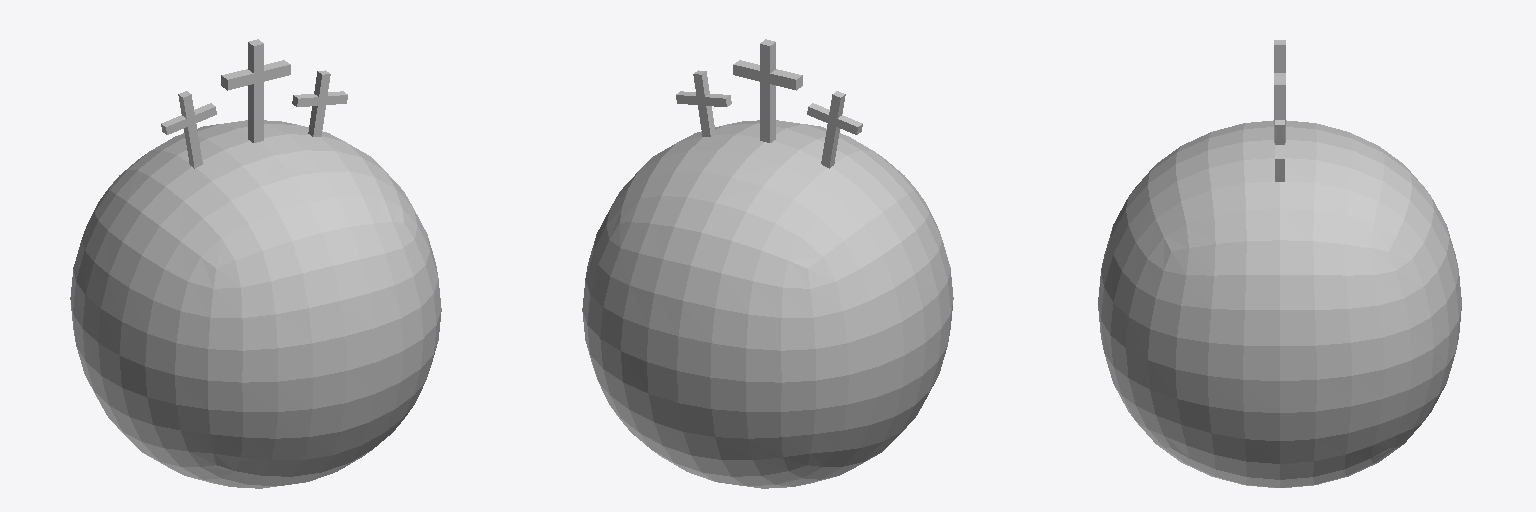
Rendered from Golgotha.obj.
3 views of the same model, side by side, from view 1: azimuth 30°, elevation 25°; view 2: azimuth 150°, elevation 25°; view 3: azimuth 270°, elevation 25° (orthographic).
Visible parts, largest first — view 1: Golgotha; view 2: Golgotha; view 3: Golgotha.
Boxes of the visible parts, box(x1,y1,x2,y2) form: Golgotha: box(70, 39, 441, 488); Golgotha: box(582, 39, 953, 488); Golgotha: box(1098, 40, 1461, 487).
Bounding box in the file's own units: 16.79 × 21.69 × 16.79.